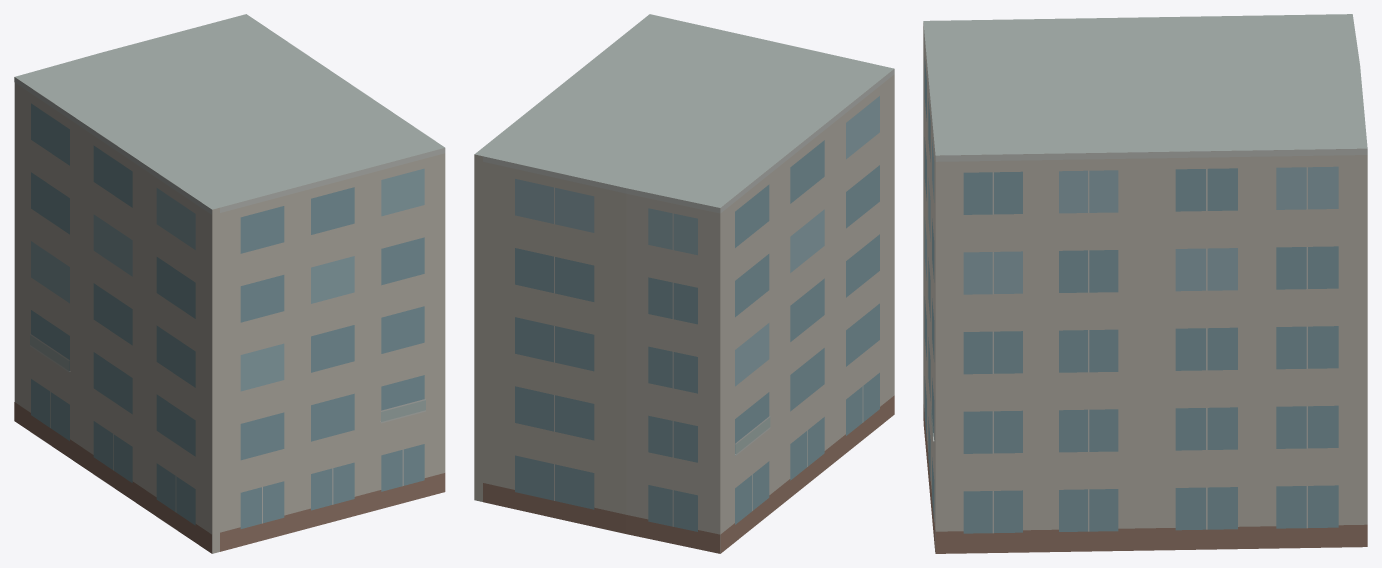
File: survey-upis-32606354.glb
The picture shows the model from 3 angles, left to right: view 1: azimuth 30°, elevation 25°; view 2: azimuth 150°, elevation 25°; view 3: azimuth 270°, elevation 25°; orthographic projection. The views are drawn at different scales.
Visible parts, largest first — view 1: survey-upis-32606354.tmp; view 2: survey-upis-32606354.tmp; view 3: survey-upis-32606354.tmp.
Boxes of the visible parts, x1,y1,x2,y2 form: survey-upis-32606354.tmp: (14, 14, 445, 553); survey-upis-32606354.tmp: (474, 14, 894, 553); survey-upis-32606354.tmp: (923, 14, 1367, 553).
Bounding box in the file's own units: 11.7 × 15.35 × 15.52.
